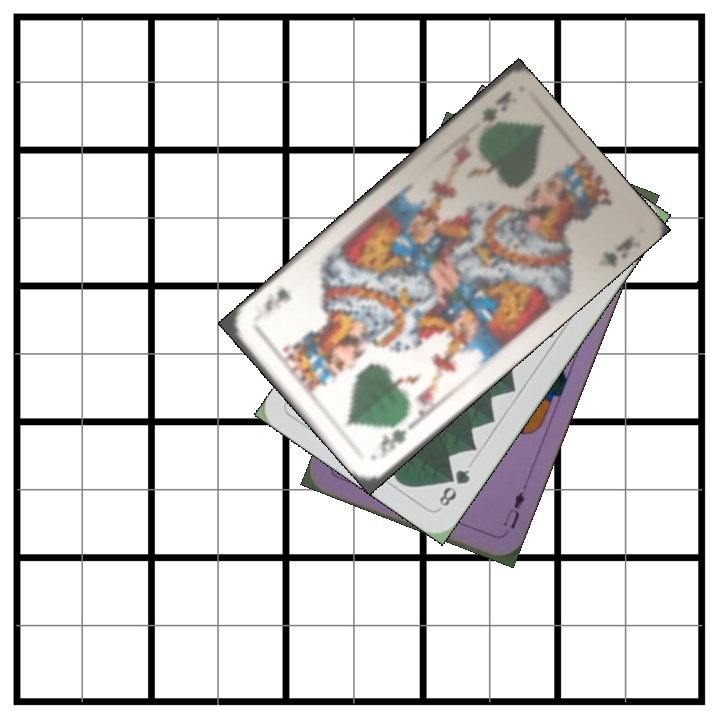EU: (498, 487, 527, 532)
G8: (434, 465, 473, 512)
GK: (375, 417, 417, 462), (476, 87, 514, 125)
